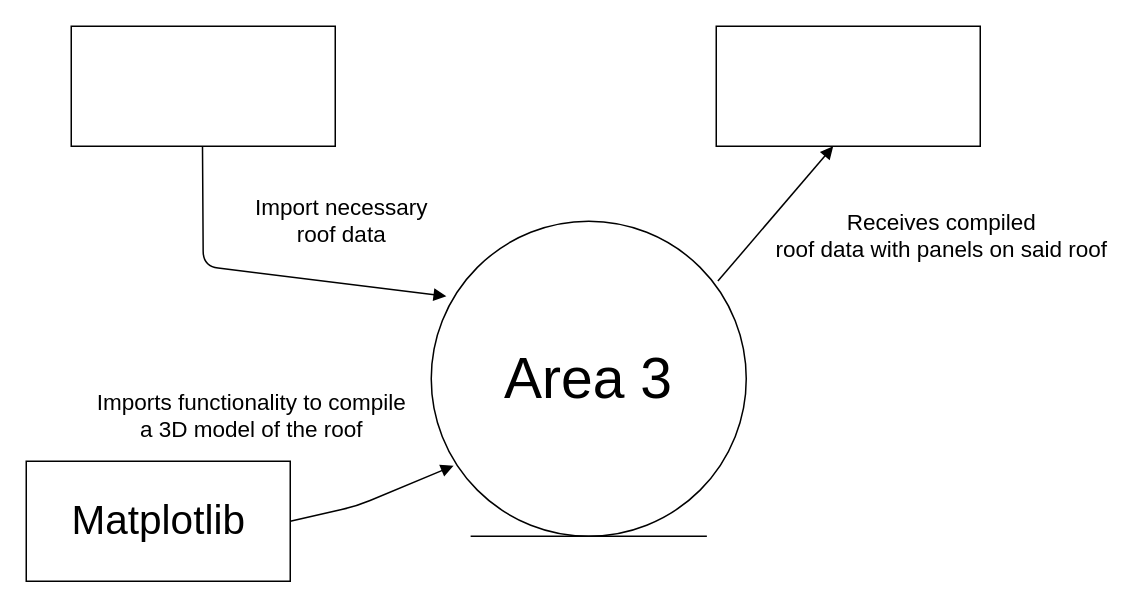
Some shapes in this 1134 by 608 pixel diagram are drawn without their labels. Each missing label, with the centre of its shape:
Team 1: pixel 202 85
Team 4: pixel 847 85
